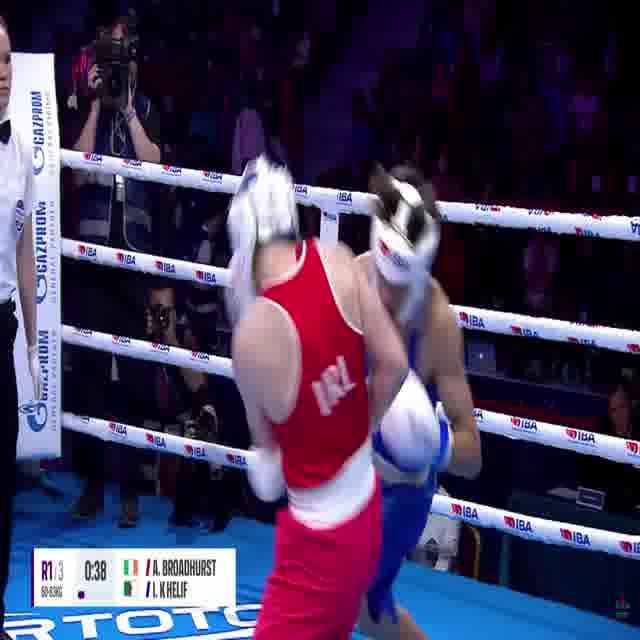blue-player: (248, 161, 486, 640)
red-player: (225, 150, 413, 640)
referee: (0, 14, 45, 634)
